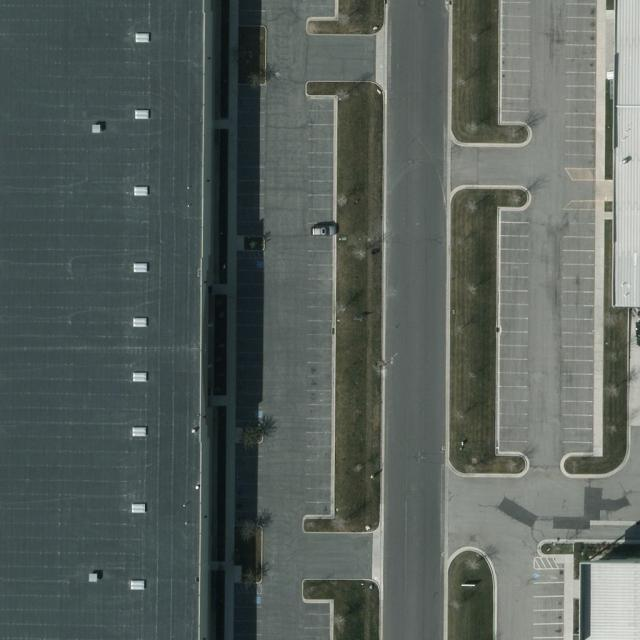vehicle: (312, 226, 337, 236)
